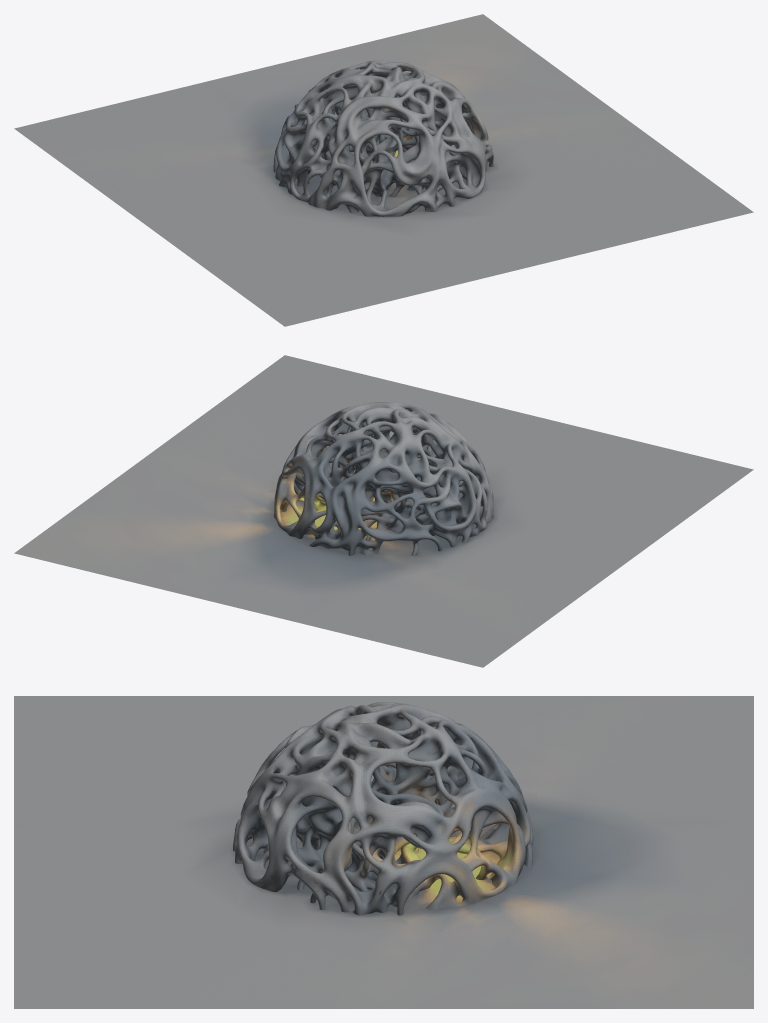
File: Roots-Optimized.3.glb
3 views of the same model, one above another, from view 1: azimuth 30°, elevation 25°; view 2: azimuth 150°, elevation 25°; view 3: azimuth 270°, elevation 25° (orthographic). The views are drawn at different scales.
Parts seen in each view (by area): view 1: file1; view 2: file1; view 3: file1.
Boxes of the visible parts, bbox=[...] form: file1: bbox=[14, 14, 753, 326]; file1: bbox=[14, 355, 753, 667]; file1: bbox=[14, 696, 753, 1008].
Bounding box in the file's own units: 500 × 101 × 500.
Materials: 1 (1 with a texture image).
